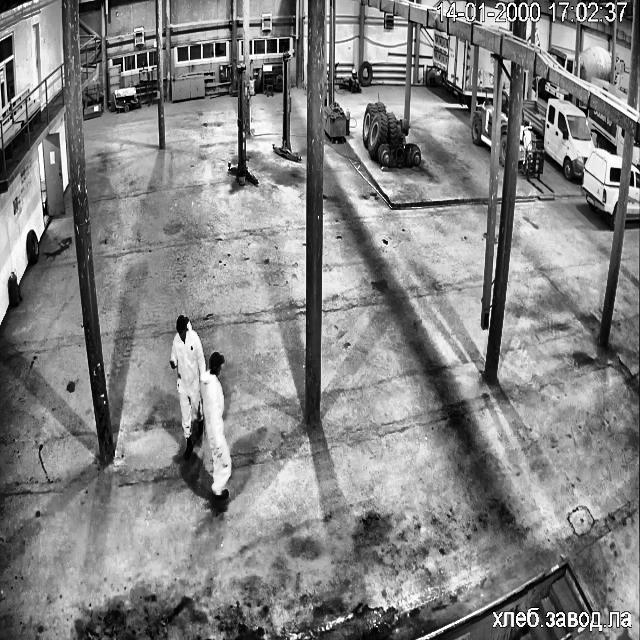class4: (170, 316, 206, 460), (200, 352, 231, 500)
class7: (524, 100, 594, 180), (432, 28, 474, 108), (580, 148, 620, 228), (588, 108, 624, 156), (518, 114, 543, 176), (499, 86, 516, 164), (577, 46, 610, 82), (472, 98, 496, 147), (592, 78, 628, 108), (476, 46, 494, 100), (626, 166, 640, 218), (548, 45, 574, 73), (536, 76, 565, 100), (632, 142, 640, 164), (504, 60, 510, 73), (616, 70, 620, 81), (636, 110, 640, 117), (621, 62, 623, 68), (472, 106, 475, 108)
tractor: (8, 272, 21, 306)
truck: (228, 64, 257, 185), (272, 52, 300, 161)
